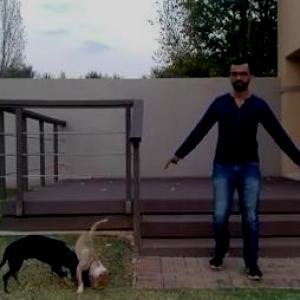land: (165, 64, 299, 287)
